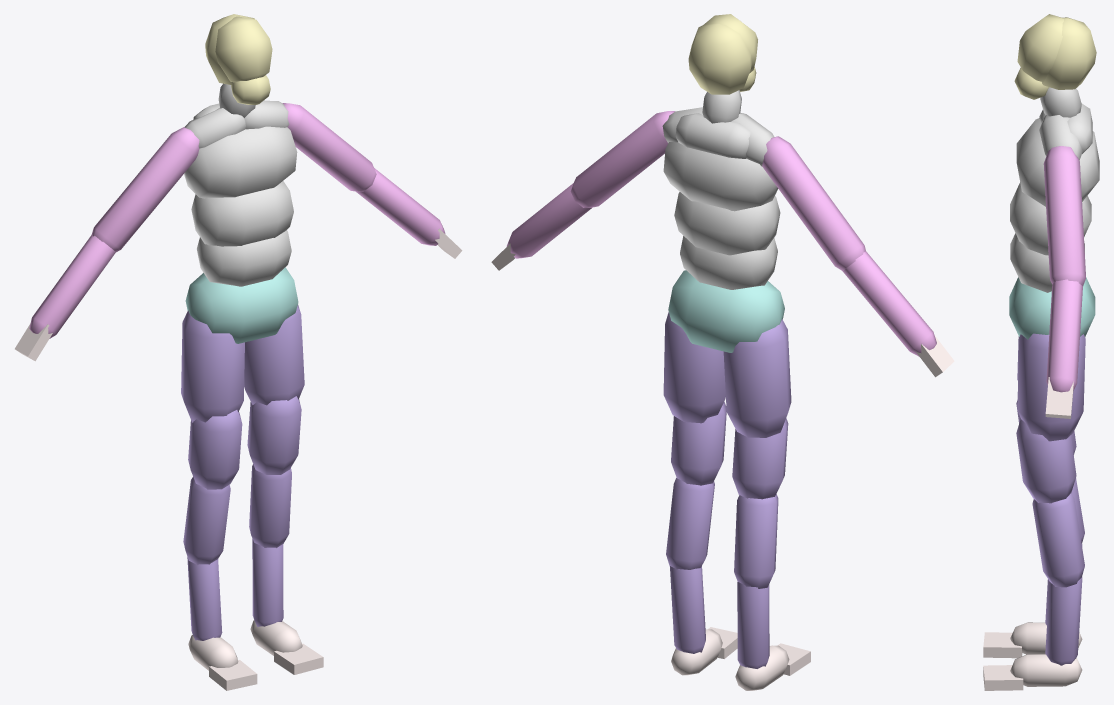
The model's file is CapsuleManTest.fbx.
The picture shows the model from 3 angles, left to right: view 1: azimuth 30°, elevation 25°; view 2: azimuth 150°, elevation 25°; view 3: azimuth 270°, elevation 25°; orthographic projection. The views are drawn at different scales.
Parts seen in each view (by area): view 1: Spine2, Hips, UpperLeg_R, Arm_R, Spine1, UpperLeg_L, Arm_L, Spine, UpperLeg1_L, UpperLeg1_R, ForeArm_R, Leg_R (+14 smaller); view 2: Hips, UpperLeg_R, Arm_R, Spine2, UpperLeg_L, Spine1, Arm_L, Leg_R, Head, ForeArm_R, Leg_R.001, UpperLeg1_L (+12 smaller); view 3: Arm_L, UpperLeg_L, Leg_R.001, UpperLeg1_L, ForeArm_L, Spine2, Leg1_L, Hips, Head, Head1, Spine1, Foot_L (+10 smaller).
Part boxes in pixels (x1,y1,x2,y2): Spine2: [184, 126, 297, 198]; Hips: [185, 267, 298, 343]; UpperLeg_R: [181, 310, 244, 422]; Arm_R: [91, 127, 199, 251]; Spine1: [191, 181, 293, 246]; UpperLeg_L: [244, 305, 304, 405]; Arm_L: [282, 103, 376, 191]; Spine: [197, 230, 291, 286]; UpperLeg1_L: [247, 396, 301, 474]; UpperLeg1_R: [188, 410, 242, 489]; ForeArm_R: [29, 235, 115, 338]; Leg_R: [183, 477, 230, 564]; Hips: [668, 270, 784, 352]; UpperLeg_R: [723, 319, 791, 437]; Arm_R: [762, 136, 865, 270]; Spine2: [663, 142, 778, 211]; UpperLeg_L: [663, 312, 725, 423]; Spine1: [674, 192, 780, 255]; Arm_L: [570, 111, 674, 207]; Leg_R: [734, 494, 778, 588]; Head: [688, 23, 752, 94]; ForeArm_R: [842, 251, 936, 356]; Leg_R.001: [666, 478, 714, 569]; UpperLeg1_L: [671, 401, 726, 485]; Arm_L: [1043, 146, 1085, 285]; UpperLeg_L: [1017, 333, 1085, 441]; Leg_R.001: [1032, 493, 1084, 587]; UpperLeg1_L: [1016, 418, 1076, 503]; ForeArm_L: [1046, 279, 1082, 392]; Spine2: [1016, 118, 1099, 206]; Leg1_L: [1045, 577, 1082, 665]; Hips: [1009, 277, 1095, 339]; Head: [1042, 17, 1096, 89]; Head1: [1017, 14, 1063, 82]; Spine1: [1010, 182, 1091, 255]; Foot_L: [1010, 654, 1082, 686].
Bounding box in the file's own units: 1.29 × 1.81 × 0.2924.
